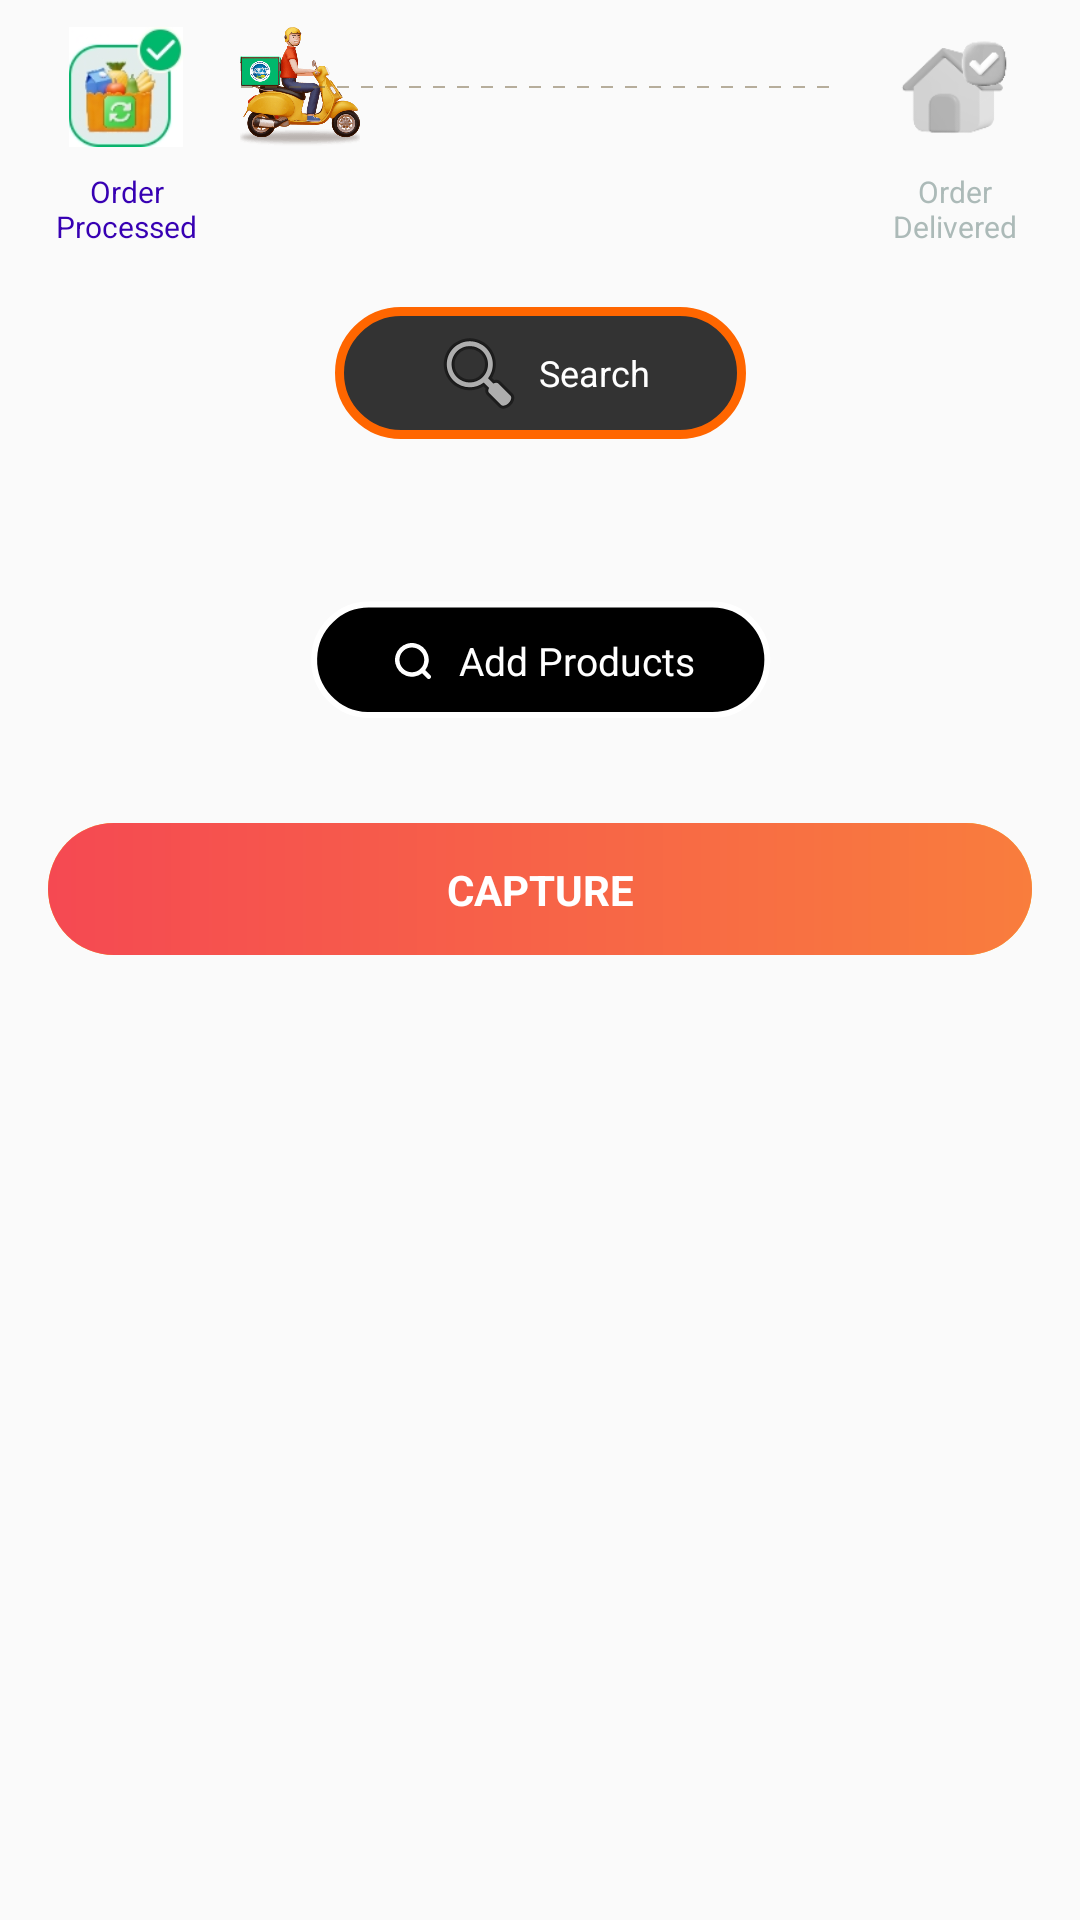

Icons on this 1080w x 1920h Android screen, each with its box as (x1=x1, y1=y1, x2=x2, y2=y2):
delivered rapid: (x1=240, y1=27, x2=360, y2=143)
grocery with tick: (x1=69, y1=29, x2=182, y2=147)
